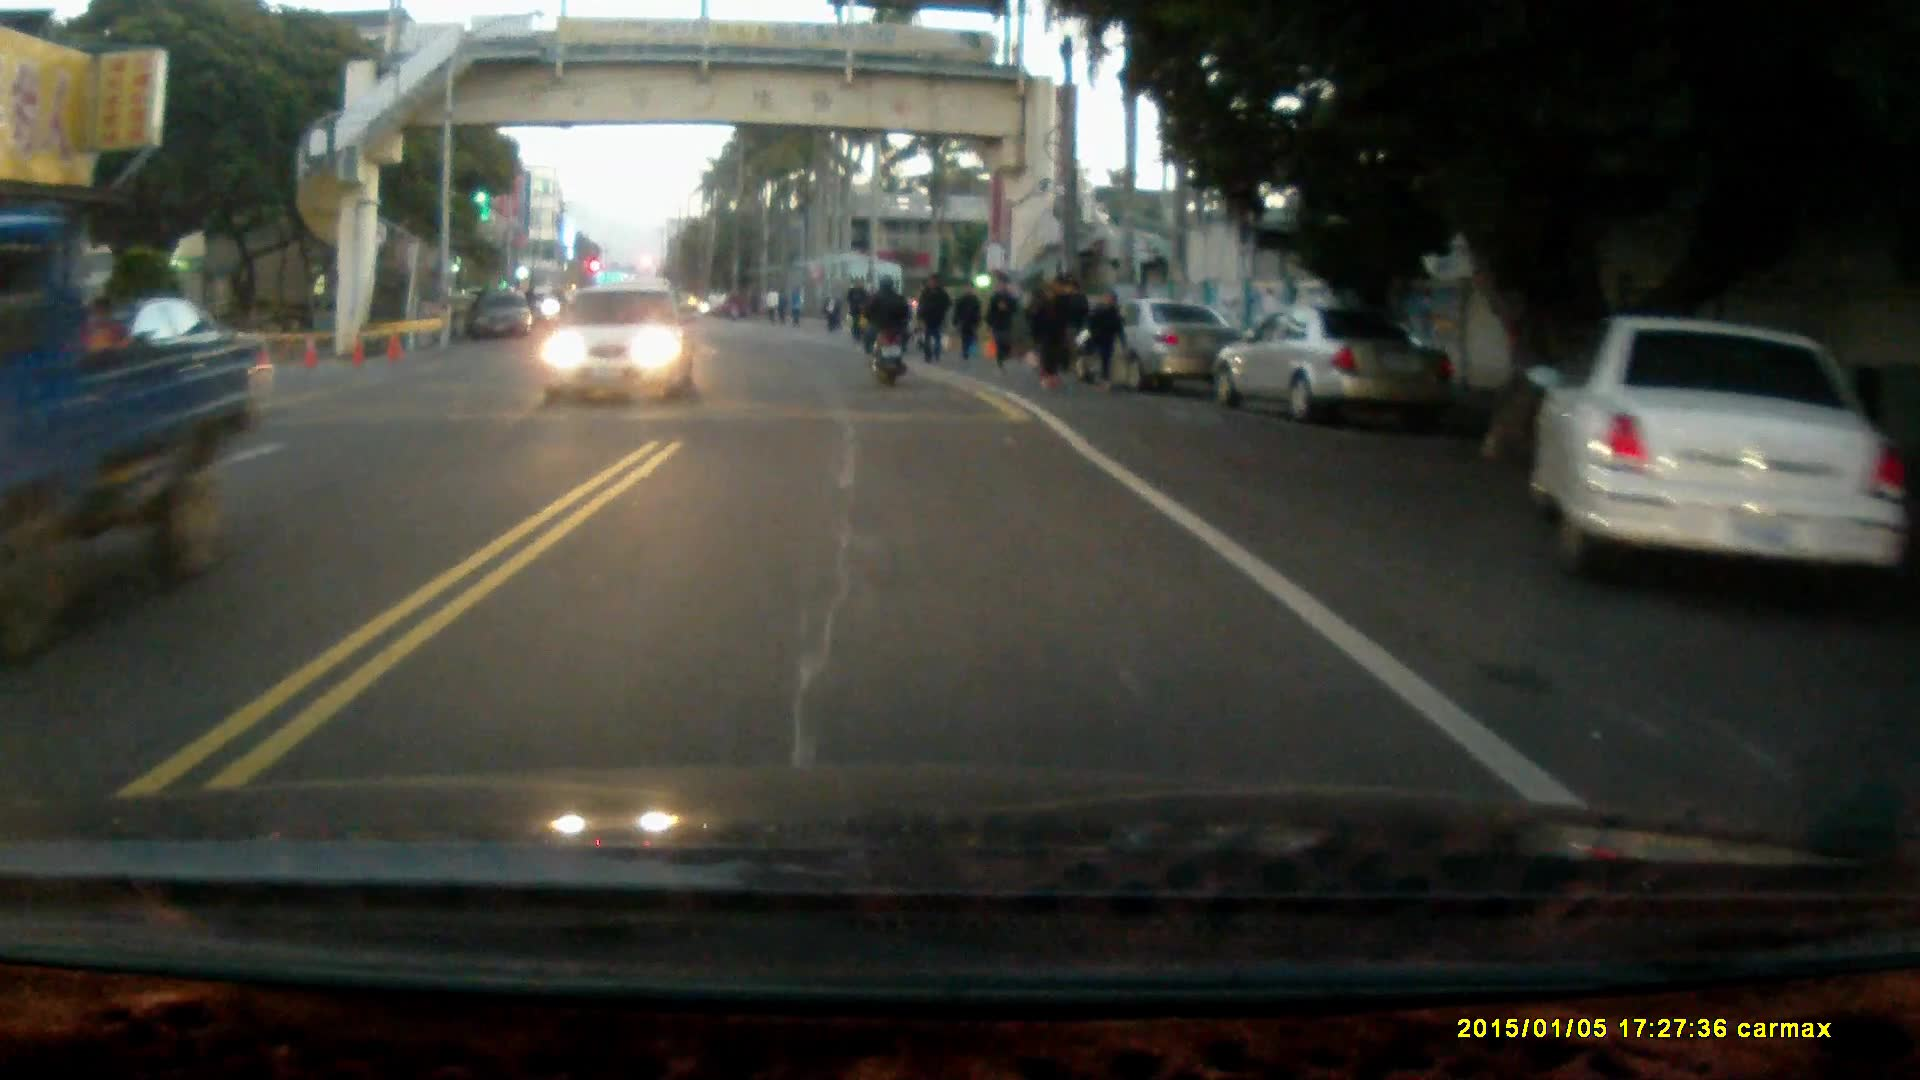pedestrian: (1029, 273, 1065, 383), (1049, 271, 1083, 379), (1089, 289, 1126, 388), (986, 270, 1021, 368), (916, 270, 951, 361), (951, 276, 986, 362)
rider: (857, 273, 914, 388)
vehicle: (1526, 312, 1878, 606), (1, 273, 270, 616), (1215, 297, 1450, 423), (538, 279, 700, 406), (1105, 295, 1244, 395)
